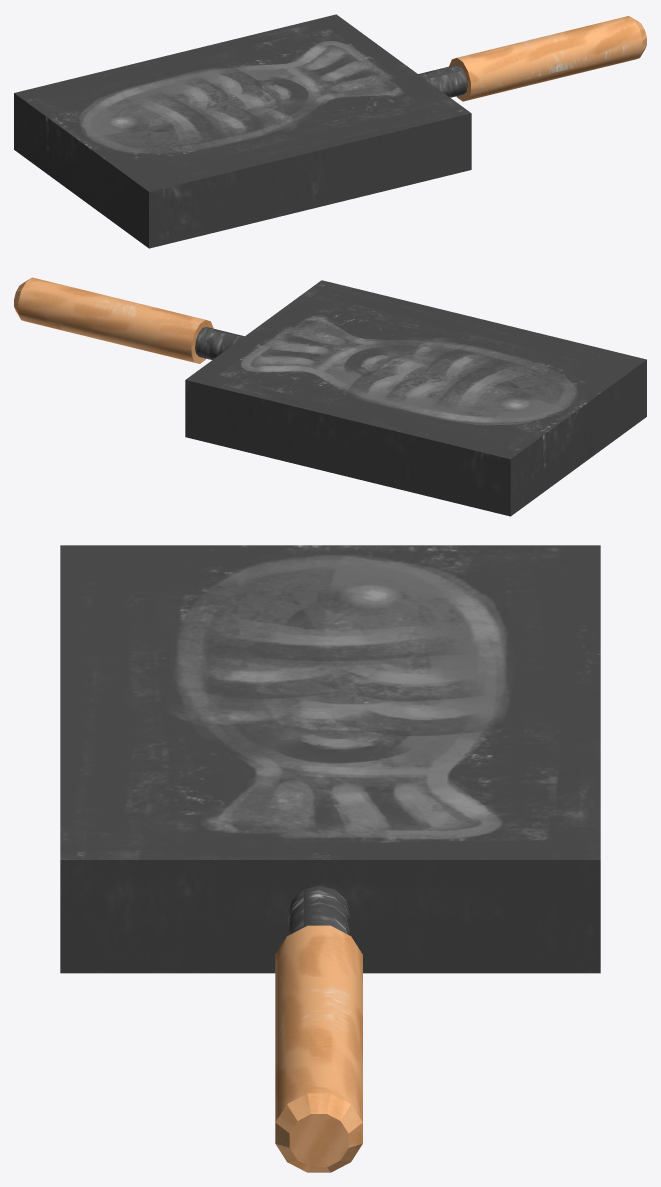
File: FishBox2.fbx
3 views of the same model, one above another, from view 1: azimuth 30°, elevation 25°; view 2: azimuth 150°, elevation 25°; view 3: azimuth 270°, elevation 25° (orthographic). The views are drawn at different scales.
Parts seen in each view (by area): view 1: Cylinder001; view 2: Cylinder001; view 3: Cylinder001.
Part boxes in pixels (box(x1,y1,x2,y2)): Cylinder001: box(14, 14, 646, 248); Cylinder001: box(14, 277, 646, 516); Cylinder001: box(60, 545, 600, 1172).
Size of the model in its own units: 192 by 18.7 by 80.76.
1 material, 1 textured.
